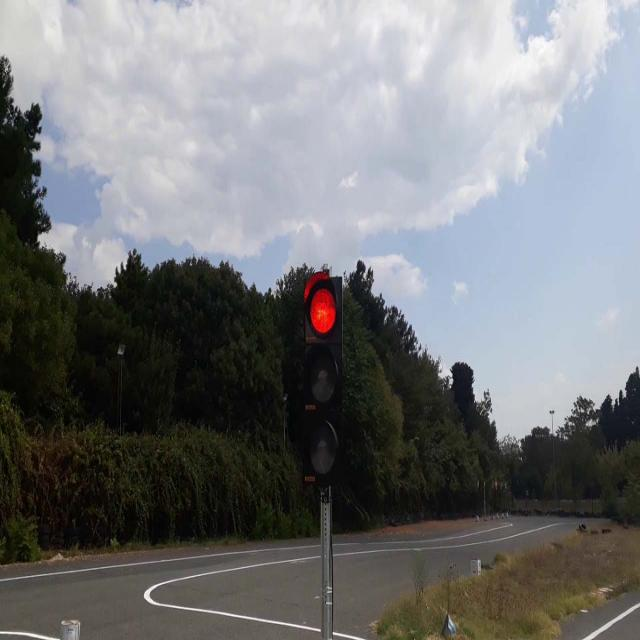kirmizi: (305, 274, 343, 486)
